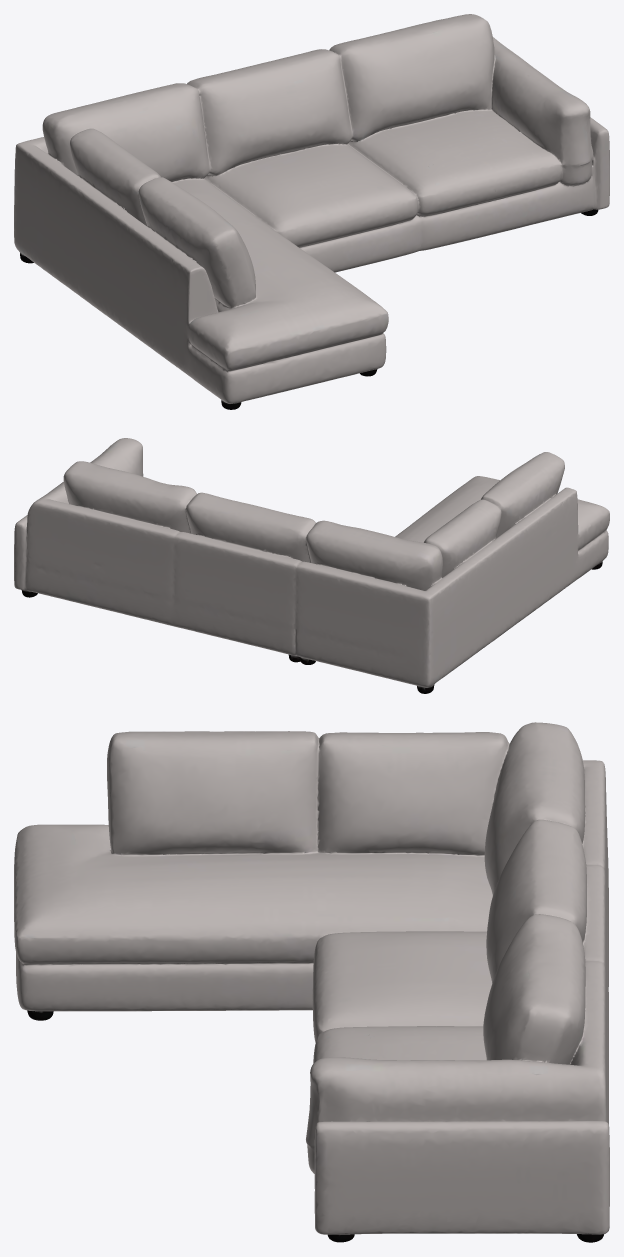
File: sofa.glb
The picture shows the model from 3 angles, top to bottom: view 1: azimuth 30°, elevation 25°; view 2: azimuth 150°, elevation 25°; view 3: azimuth 270°, elevation 25°; orthographic projection. The views are drawn at different scales.
Visible parts, largest first — view 1: world; view 2: world; view 3: world.
Boxes of the visible parts, x1,y1,x2,y2 form: world: [14, 14, 609, 409]; world: [14, 438, 609, 693]; world: [14, 722, 609, 1242].
Bounding box in the file's own units: 1 × 0.3 × 0.7616.
Materials: 1 (1 with a texture image).
